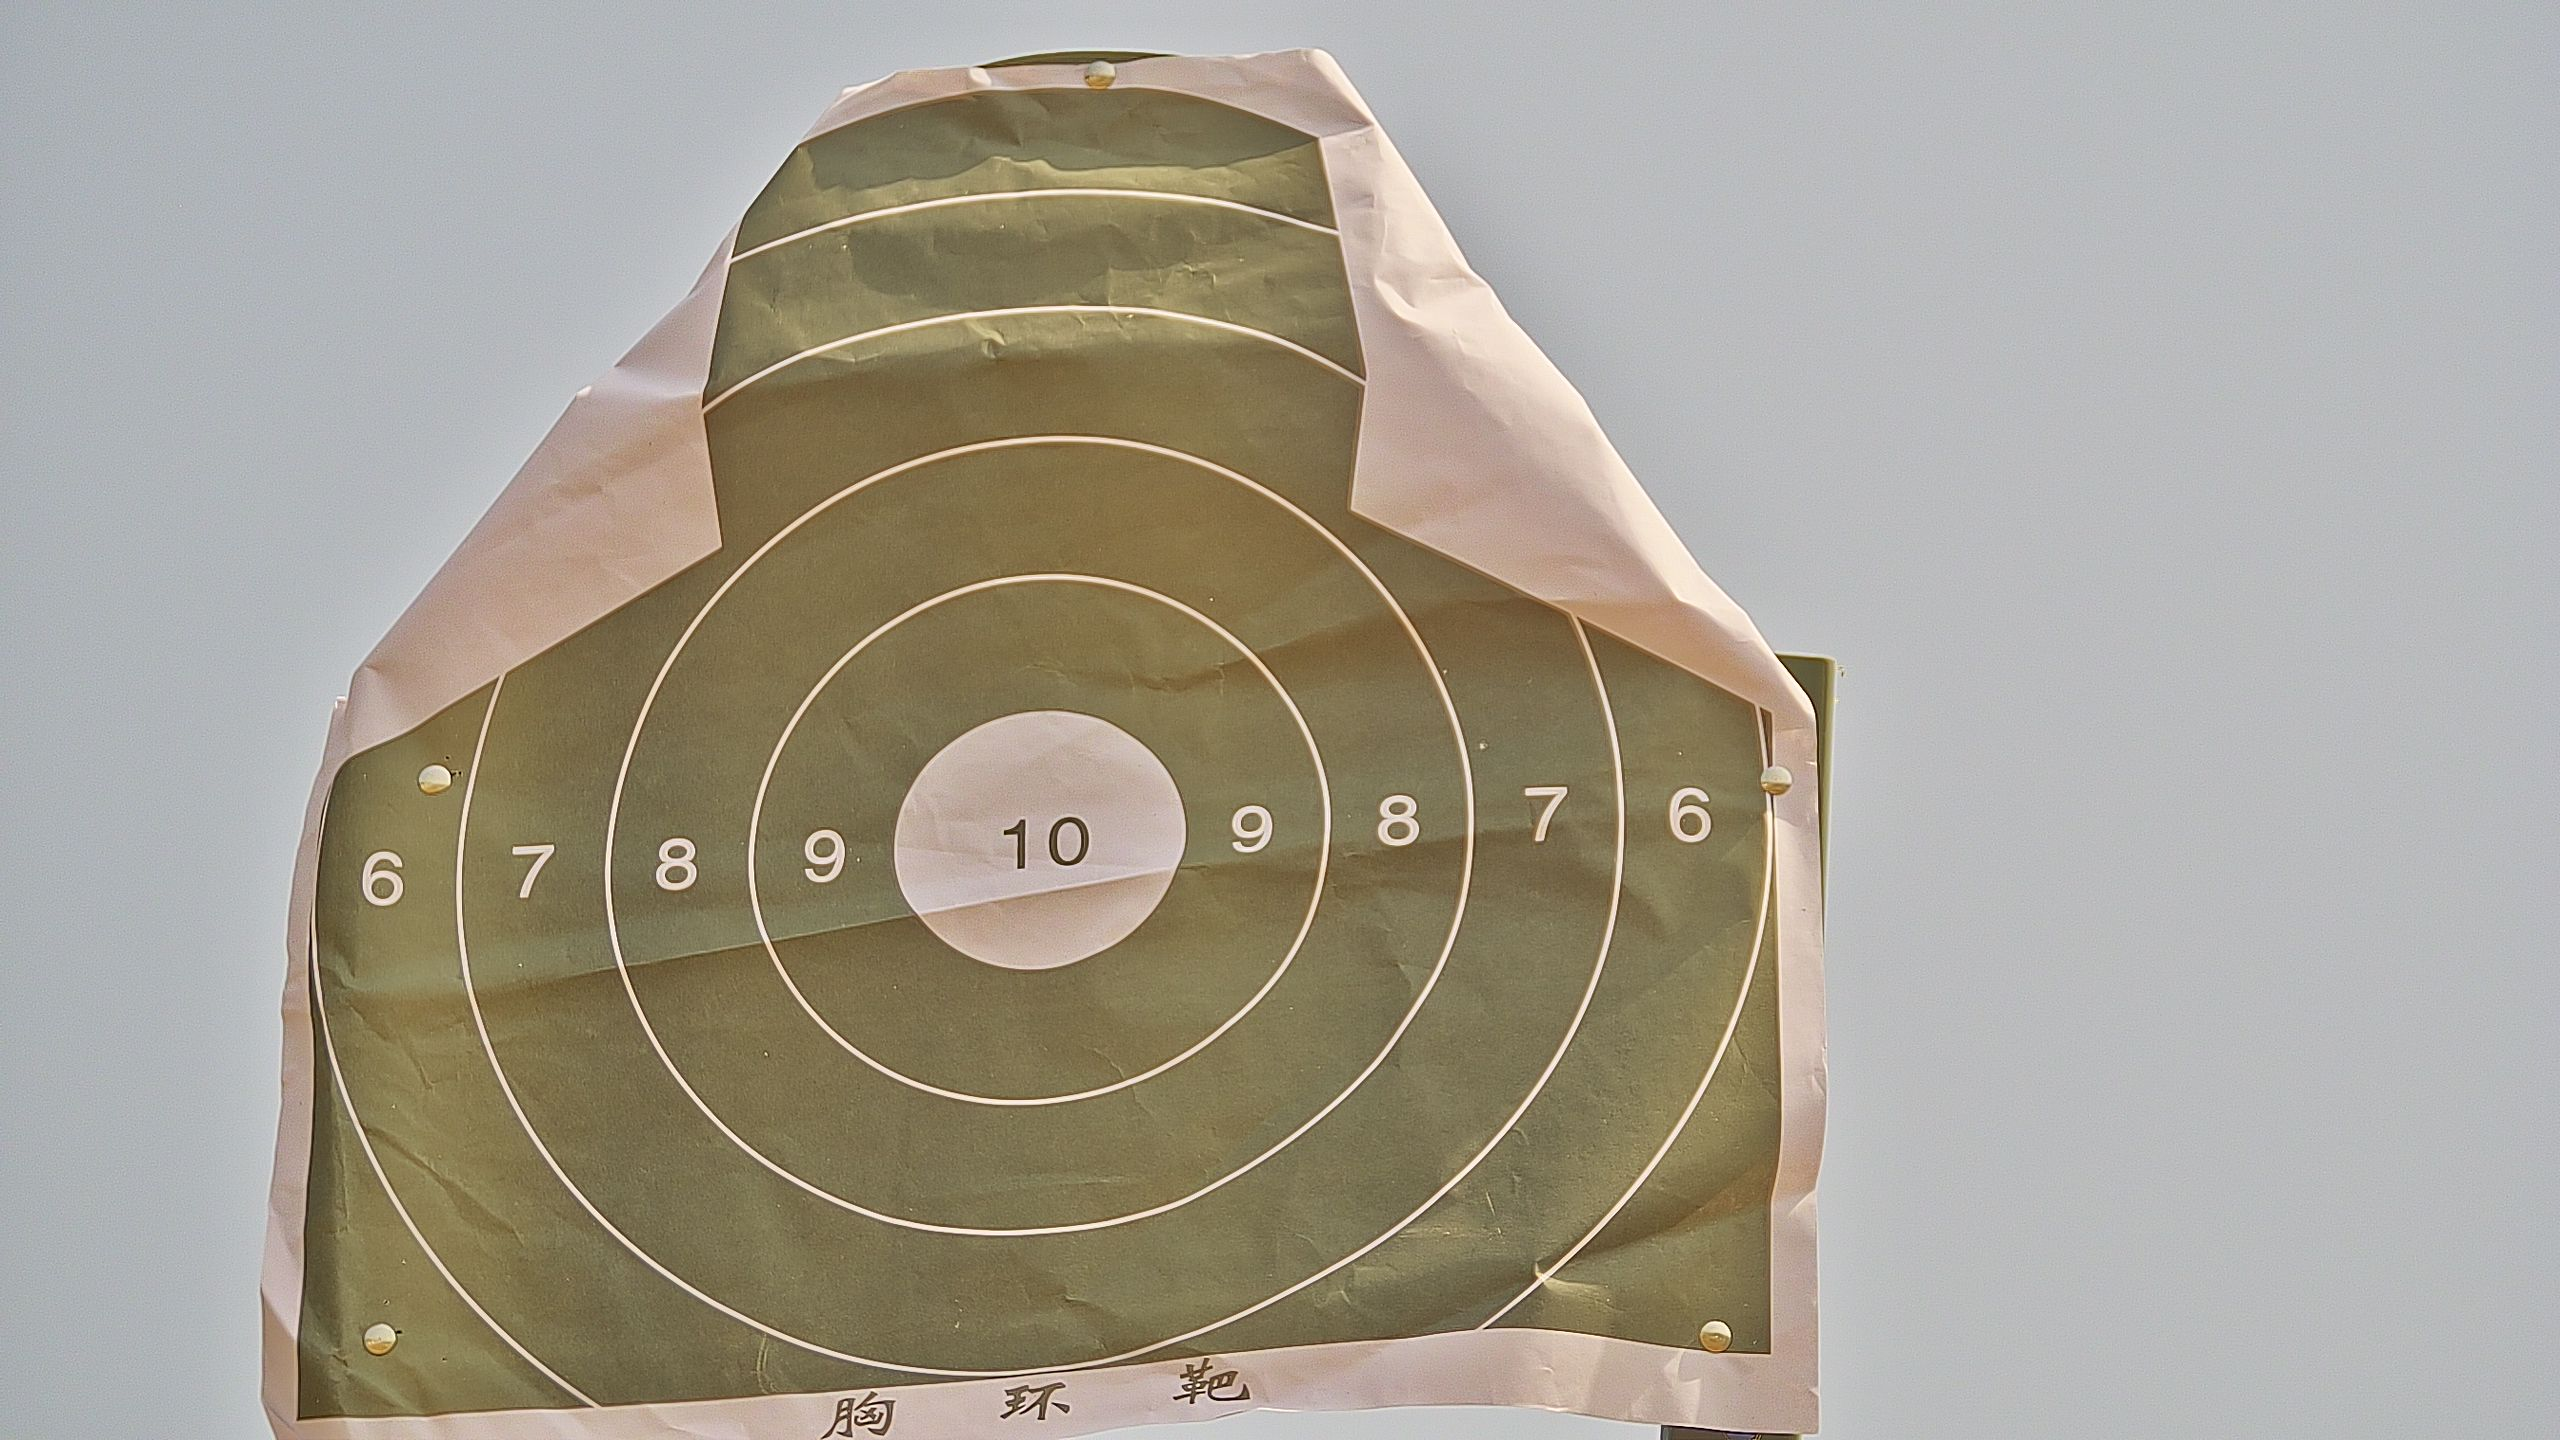kernel: (1037, 844, 1039, 851)
target: (302, 83, 1783, 1419)
ten: (893, 710, 1189, 978)
